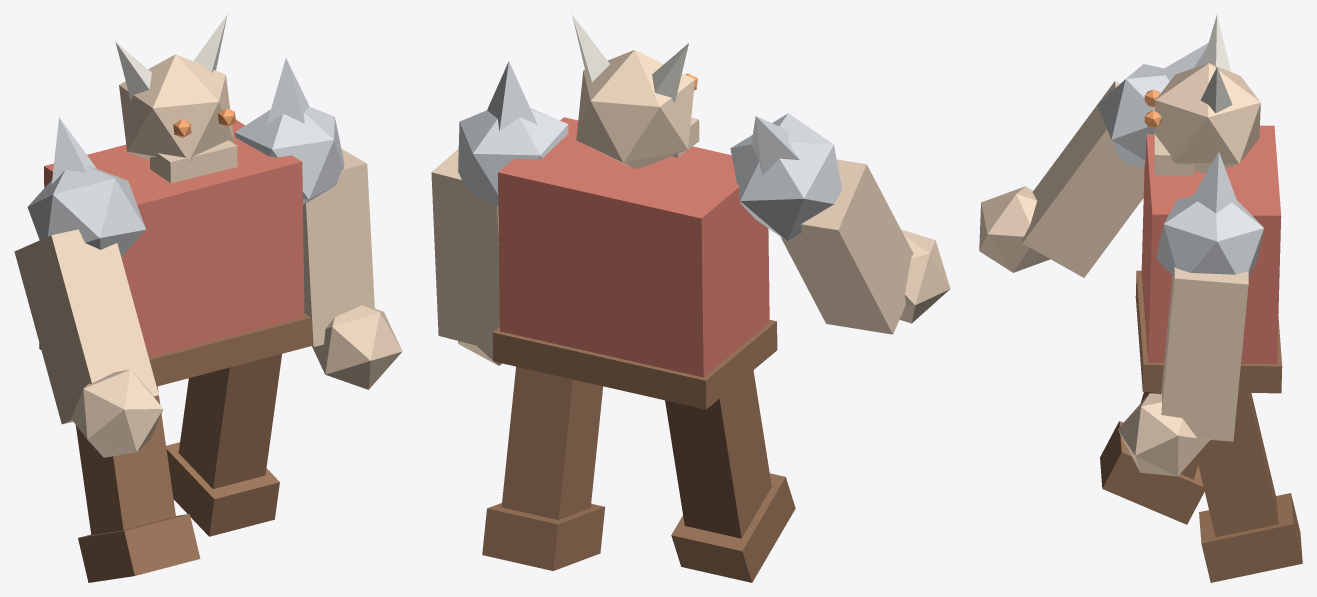
The model's file is npcpose_brute_walk_05.glb.
The picture shows the model from 3 angles, left to right: view 1: azimuth 30°, elevation 25°; view 2: azimuth 150°, elevation 25°; view 3: azimuth 270°, elevation 25°; orthographic projection. The views are drawn at different scales.
Parts seen in each view (by area): view 1: npcpose; view 2: npcpose; view 3: npcpose.
Boxes of the visible parts, left/top/right/bottom form: npcpose: left=14, top=14, right=402, bottom=582; npcpose: left=431, top=14, right=950, bottom=582; npcpose: left=979, top=14, right=1302, bottom=582.
Bounding box in the file's own units: 1.46 × 1.87 × 1.1.
